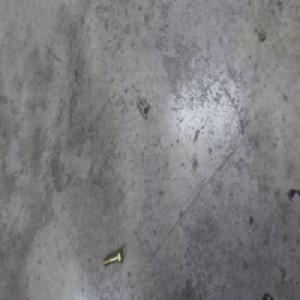Bolt: (102, 245, 123, 265)
